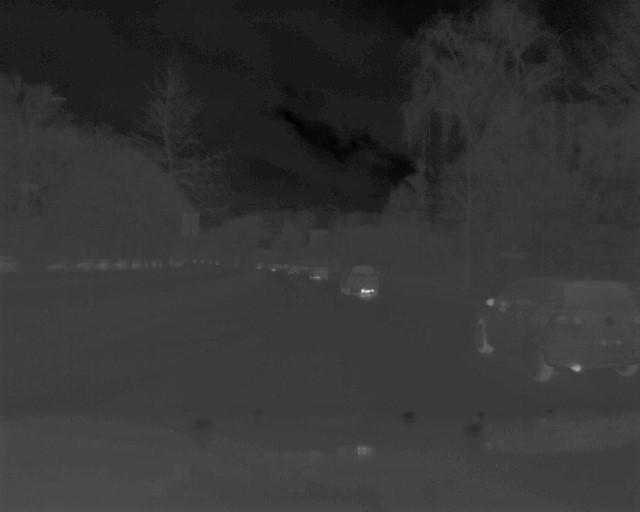car: (473, 278, 640, 383)
